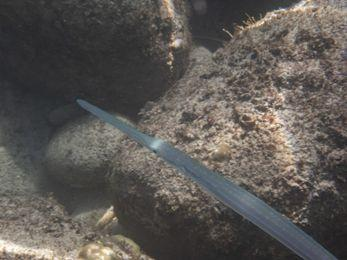Fistularia commersonii: (42, 89, 347, 260)
